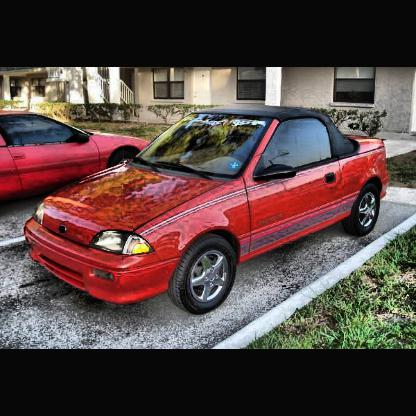Geo Metro Convertible 1993: (25, 104, 391, 316)
